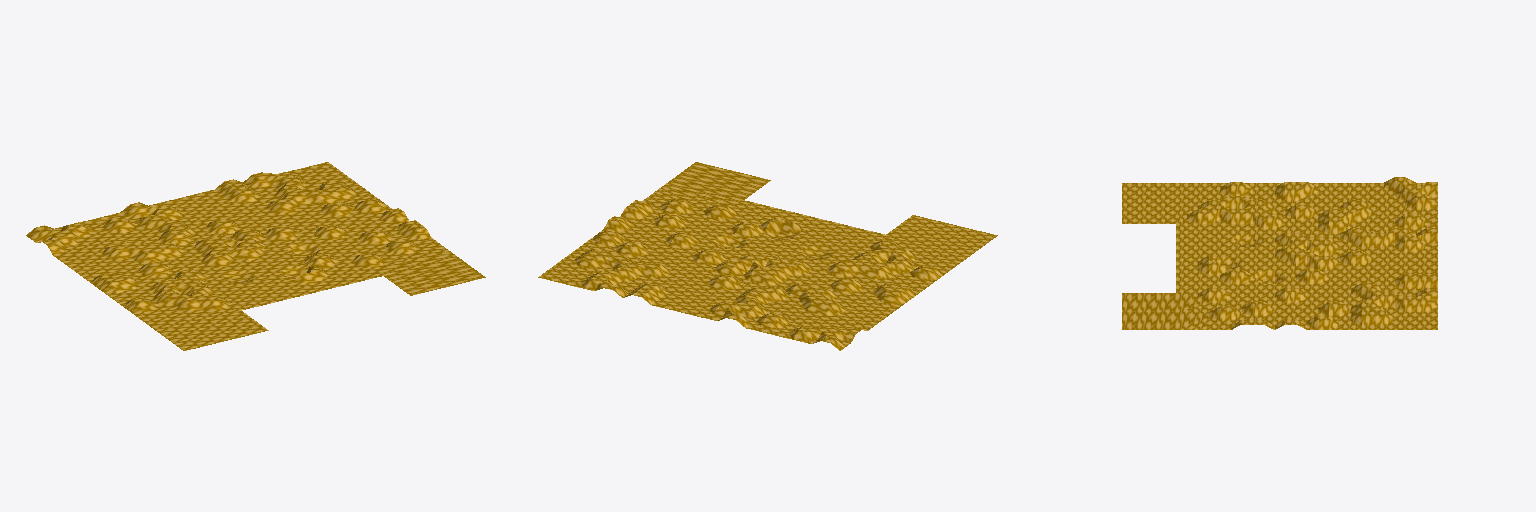
The picture shows the model from 3 angles: view 1: azimuth 30°, elevation 25°; view 2: azimuth 150°, elevation 25°; view 3: azimuth 270°, elevation 25°; orthographic projection.
Visible parts, largest first — view 1: Plane; view 2: Plane; view 3: Plane.
Boxes of the visible parts, <box> form: Plane: <box>26,162,485,350</box>; Plane: <box>538,162,997,350</box>; Plane: <box>1122,177,1437,329</box>.
Bounding box in the file's own units: 64 × 2.04 × 58.
1 materials, 1 textured.